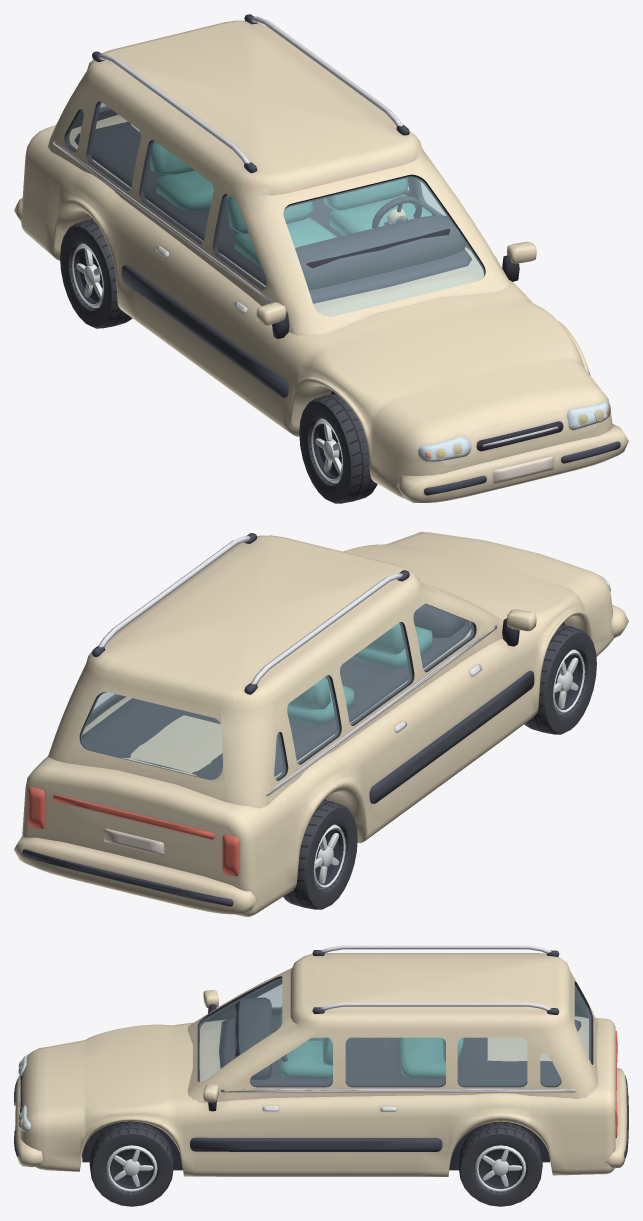
The model's file is g3-1990s-station-wagon.glb.
3 views of the same model, one above another, from view 1: azimuth 30°, elevation 25°; view 2: azimuth 150°, elevation 25°; view 3: azimuth 270°, elevation 25° (orthographic). The views are drawn at different scales.
Visible parts, largest first — view 1: 1990s-station-wagon_body, 1990s-station-wagon_windows, 1990s-station-wagon_wheel_fr, 1990s-station-wagon_wheel_rr; view 2: 1990s-station-wagon_body, 1990s-station-wagon_windows, 1990s-station-wagon_wheel_rr, 1990s-station-wagon_wheel_fr; view 3: 1990s-station-wagon_body, 1990s-station-wagon_windows, 1990s-station-wagon_wheel_fl, 1990s-station-wagon_wheel_rl.
Boxes of the visible parts, x1,y1,x2,y2 form: 1990s-station-wagon_body: (14,14,628,502); 1990s-station-wagon_windows: (67,102,484,316); 1990s-station-wagon_wheel_fr: (299,393,377,503); 1990s-station-wagon_wheel_rr: (60,219,132,328); 1990s-station-wagon_body: (14,532,628,916); 1990s-station-wagon_windows: (81,604,473,779); 1990s-station-wagon_wheel_rr: (283,800,357,909); 1990s-station-wagon_wheel_fr: (524,624,596,734); 1990s-station-wagon_body: (14,945,628,1176); 1990s-station-wagon_windows: (199,978,590,1085); 1990s-station-wagon_wheel_fl: (89,1122,173,1206); 1990s-station-wagon_wheel_rl: (458,1122,542,1206).
Size of the model in its own units: 1.92 by 1.62 by 4.8.
Materials: 18 (5 with a texture image).
